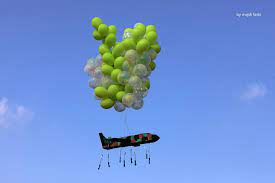Balloon: (128, 75, 141, 91), (122, 92, 135, 106), (84, 64, 98, 77), (125, 48, 137, 62), (100, 97, 113, 109), (95, 86, 107, 99), (102, 52, 114, 65), (133, 64, 146, 76), (136, 40, 149, 52), (91, 17, 103, 29), (131, 28, 143, 40), (113, 43, 124, 56), (118, 71, 129, 83), (99, 24, 109, 37), (147, 31, 158, 42)
